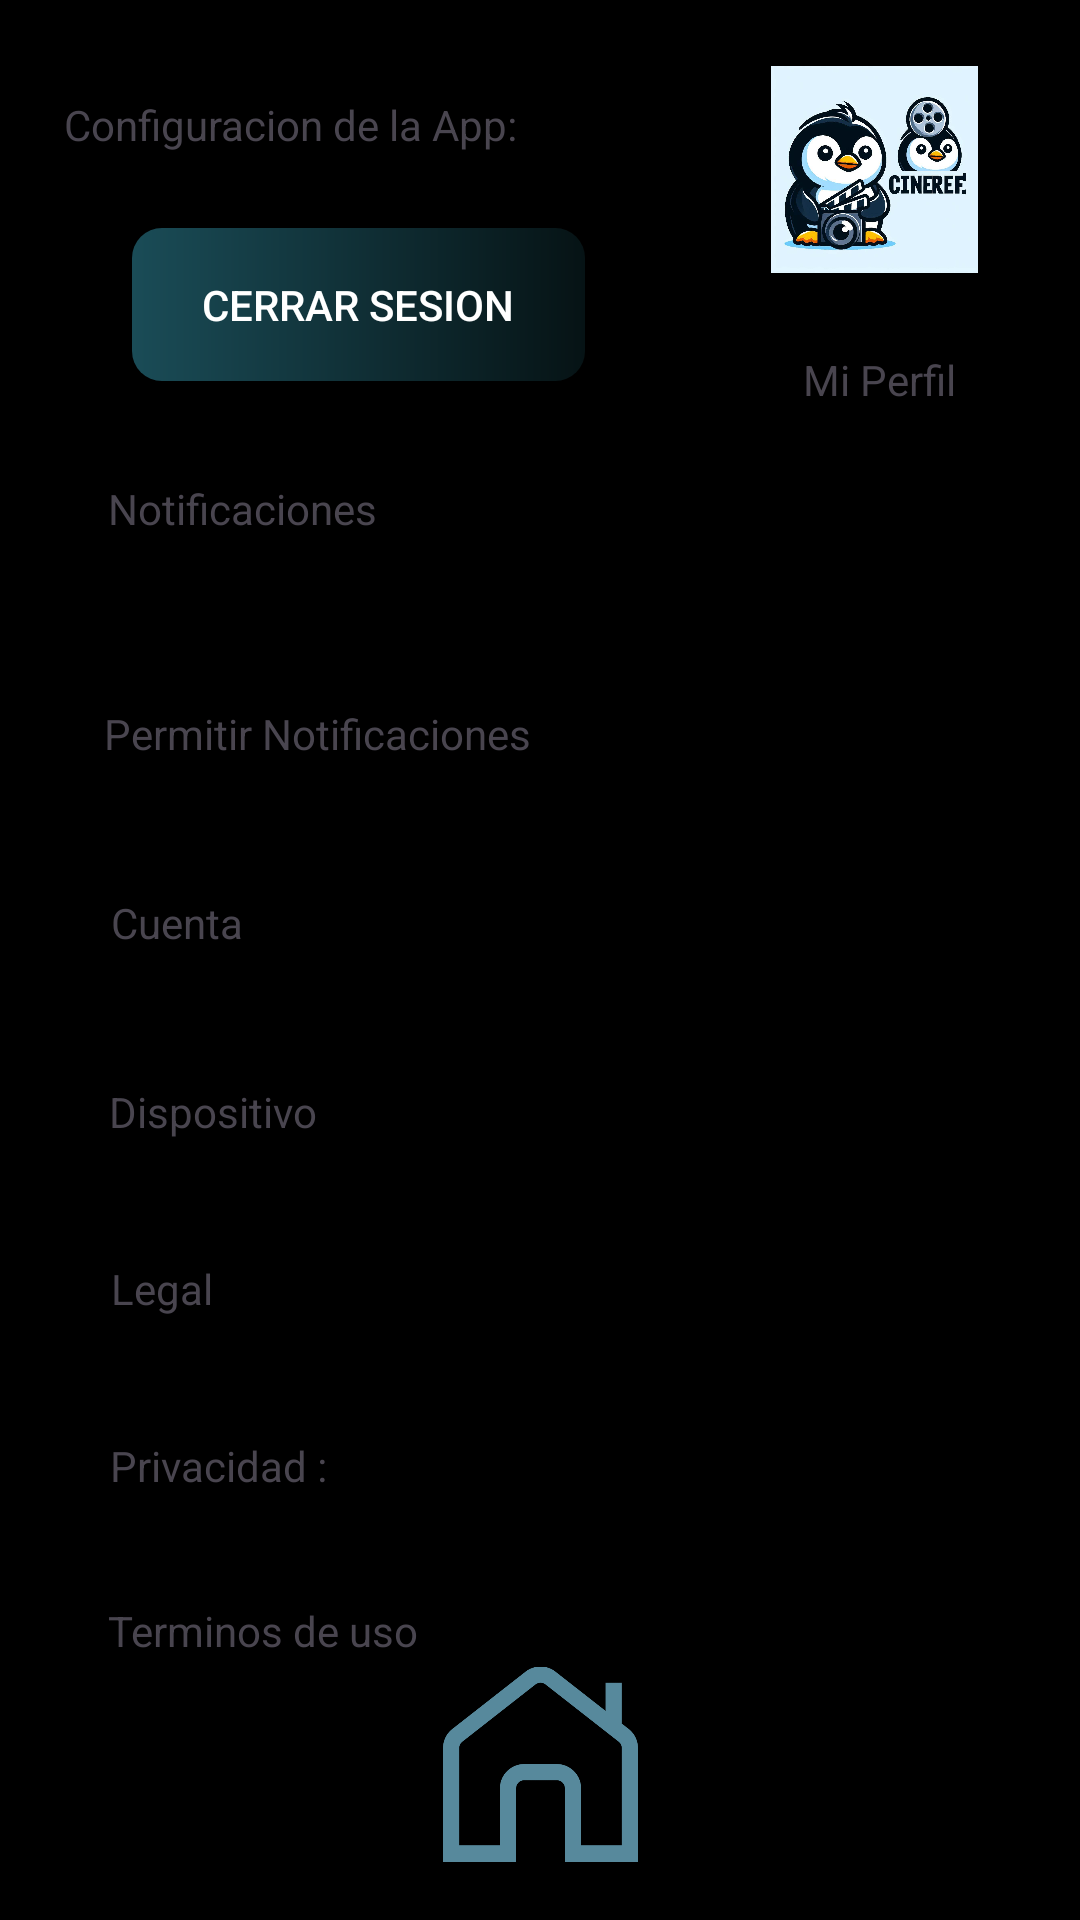

Point at icon controls on the screen. Image size 1080 x 1920, points as (x,y).
home: (540,1764)
